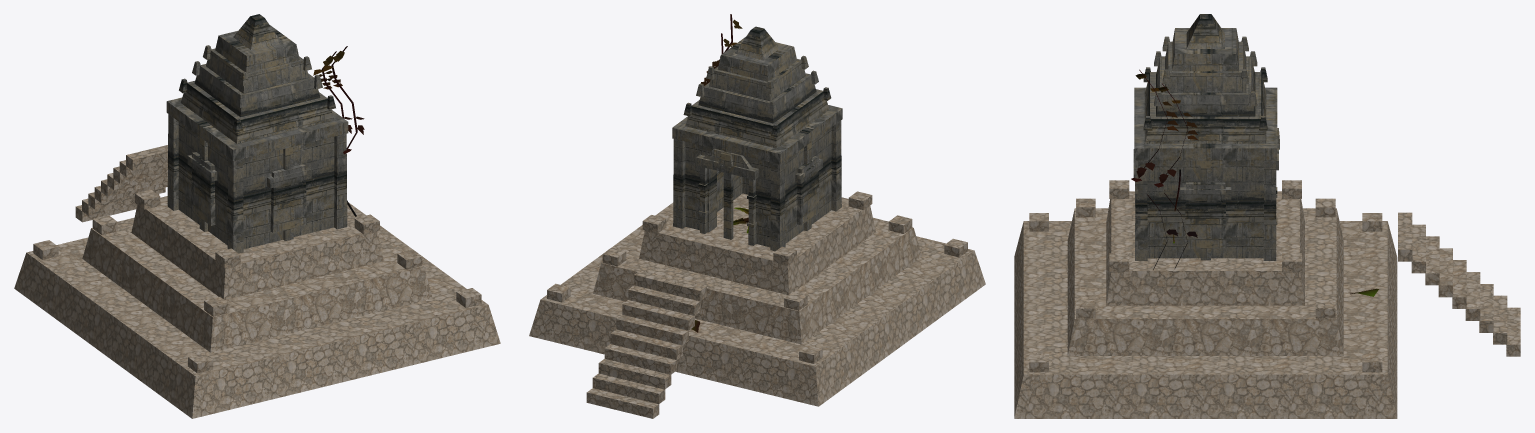
The model's file is prasat_intact_04.glb.
3 renders of one model, left to right at view 1: azimuth 30°, elevation 25°; view 2: azimuth 150°, elevation 25°; view 3: azimuth 270°, elevation 25°, orthographic. The views are drawn at different scales.
Visible parts, largest first — view 1: prasat_intact_04, prasat_intact_04_veg_00_trunk_vine_a; view 2: prasat_intact_04; view 3: prasat_intact_04, prasat_intact_04_veg_00_trunk_vine_a, prasat_intact_04_veg_01_trunk_vine_a.
Boxes of the visible parts, bbox=[...] form: prasat_intact_04: bbox=[14, 14, 500, 418]; prasat_intact_04_veg_00_trunk_vine_a: bbox=[322, 46, 364, 216]; prasat_intact_04: bbox=[529, 26, 985, 418]; prasat_intact_04: bbox=[1014, 14, 1520, 418]; prasat_intact_04_veg_00_trunk_vine_a: bbox=[1131, 69, 1178, 269]; prasat_intact_04_veg_01_trunk_vine_a: bbox=[1154, 83, 1198, 268].
Size of the model in its own units: 9.61 by 8.97 by 12.71.
8 materials, 8 textured.
